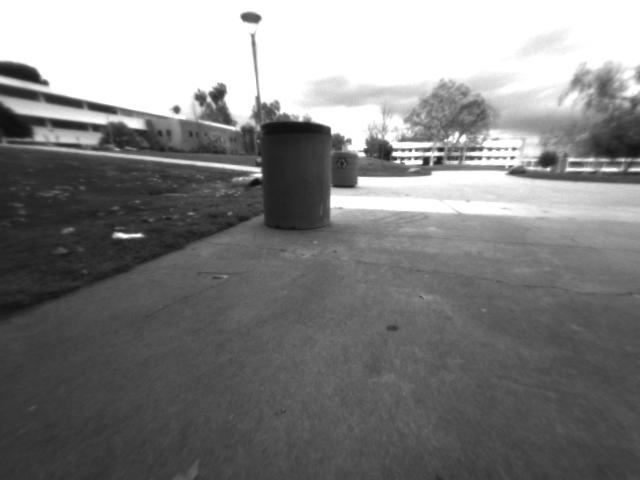trashcan: (249, 111, 330, 233), (332, 144, 362, 195)
